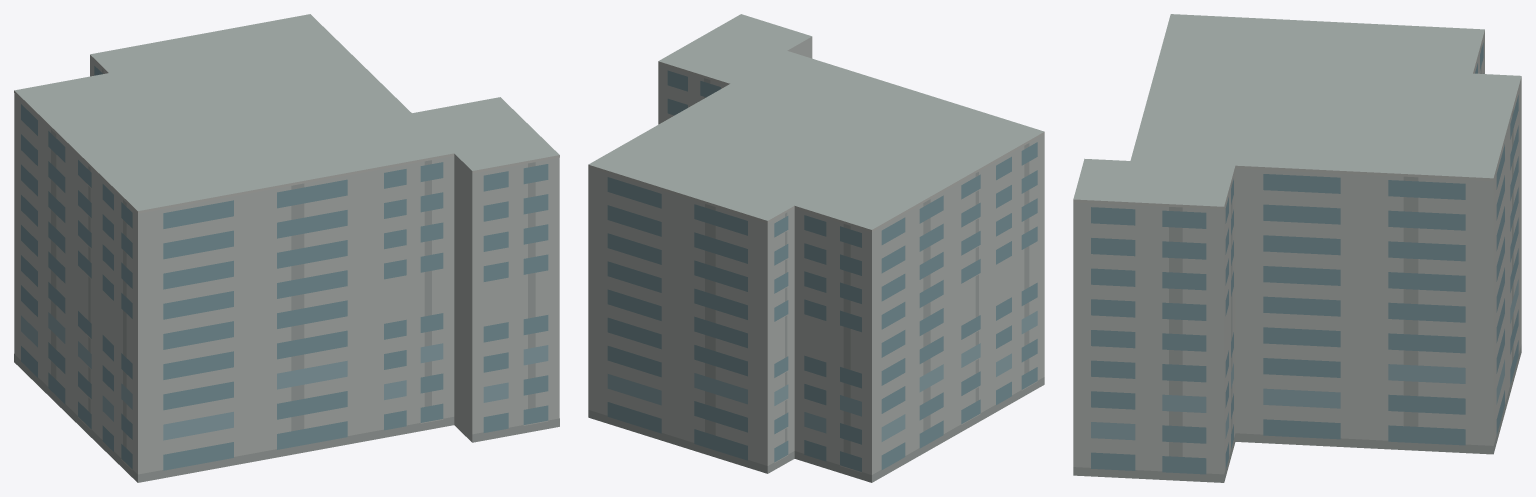
The model's file is residential-78c50ec5-aa78-47e7-a6a4-00a674bc0e08.glb.
3 renders of one model, left to right at view 1: azimuth 30°, elevation 25°; view 2: azimuth 150°, elevation 25°; view 3: azimuth 270°, elevation 25°, orthographic. The views are drawn at different scales.
Visible parts, largest first — view 1: residential-78c50ec5-aa78-47e7-a6a4-00a674bc0e08.tmp; view 2: residential-78c50ec5-aa78-47e7-a6a4-00a674bc0e08.tmp; view 3: residential-78c50ec5-aa78-47e7-a6a4-00a674bc0e08.tmp.
Part boxes in pixels (x1,y1,x2,y2): residential-78c50ec5-aa78-47e7-a6a4-00a674bc0e08.tmp: (14, 14, 559, 482); residential-78c50ec5-aa78-47e7-a6a4-00a674bc0e08.tmp: (588, 14, 1044, 482); residential-78c50ec5-aa78-47e7-a6a4-00a674bc0e08.tmp: (1073, 14, 1521, 482).
Bounding box in the file's own units: 37.45 × 25 × 36.8.
